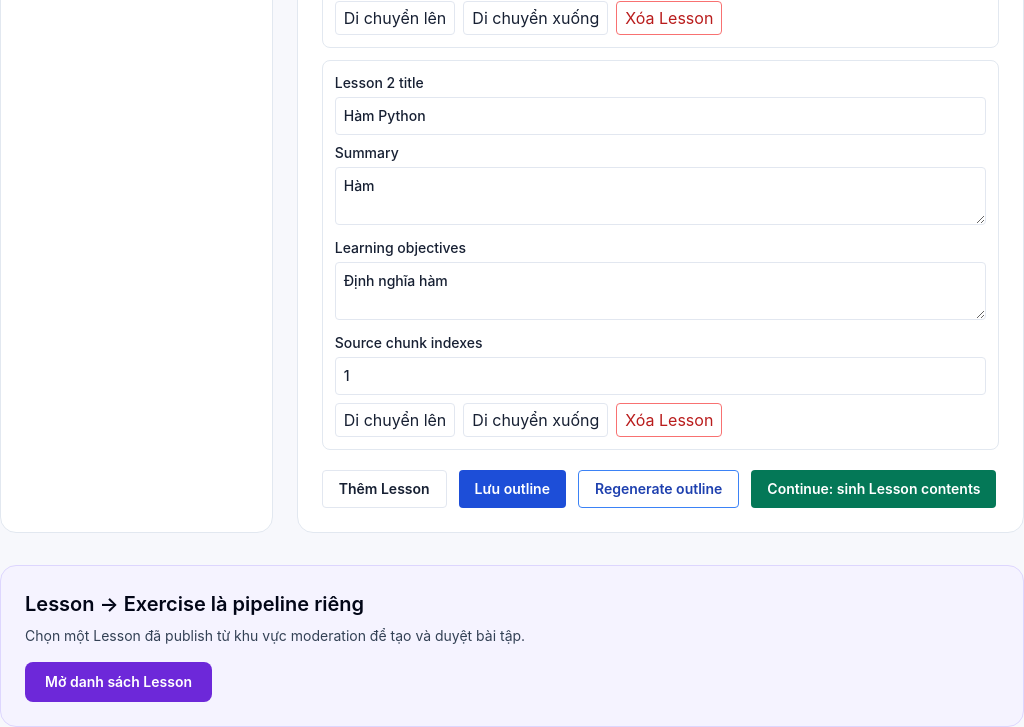
Test: content pipeline Admin › generates Lesson contents only after Continue
The image size is (1024, 727).
(page scrolled)
Click the button "Continue: sinh Lesson contents".
click(874, 489)  # box [751,470,996,508]
(page scrolled)
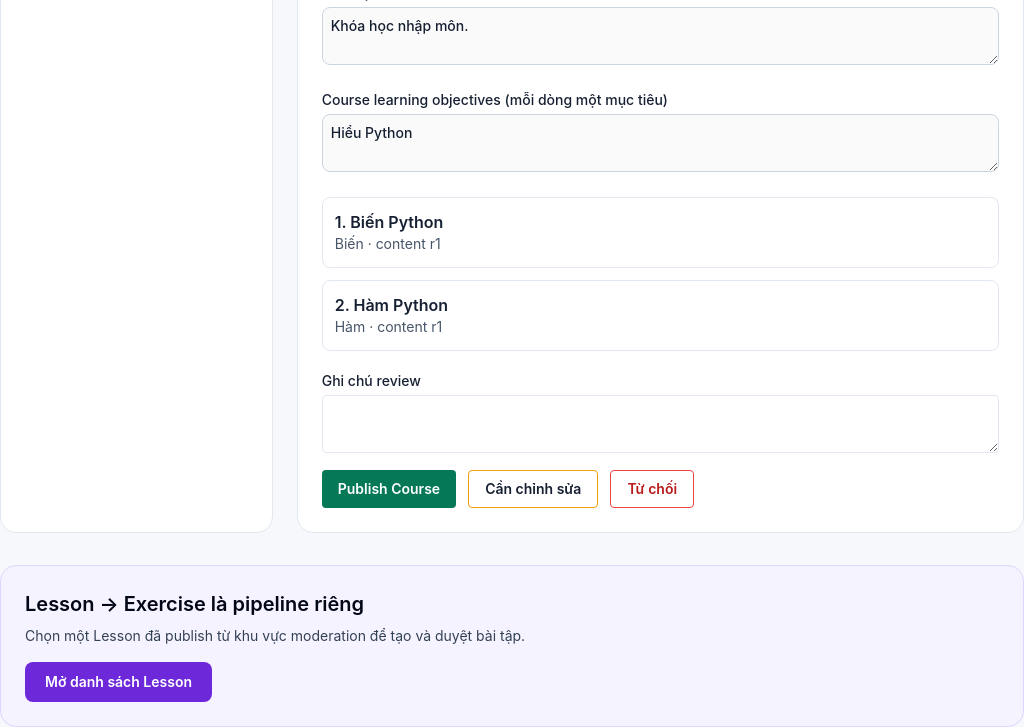
Expected: the button "Publish Course" is shown, [322,470,456,508]
